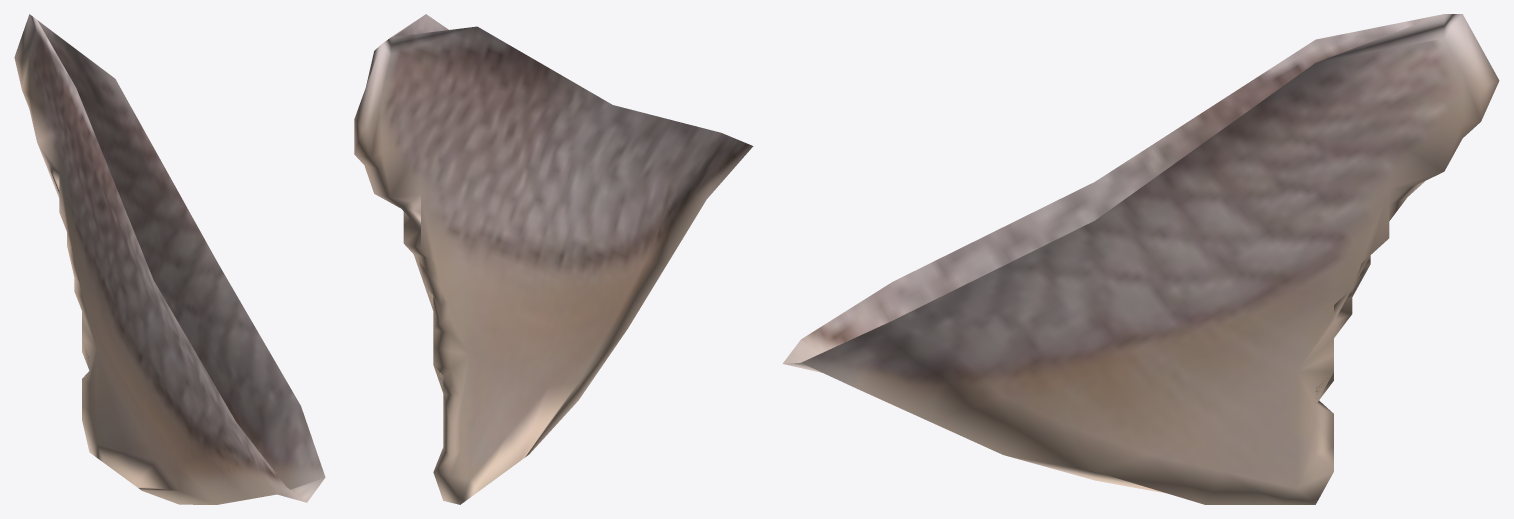
The model's file is AnalFins.glb.
3 renders of one model, left to right at view 1: azimuth 30°, elevation 25°; view 2: azimuth 150°, elevation 25°; view 3: azimuth 270°, elevation 25°, orthographic. The views are drawn at different scales.
Parts seen in each view (by area): view 1: world; view 2: world; view 3: world.
Boxes of the visible parts, left/top/right/bottom form: world: left=14, top=14, right=325, bottom=504; world: left=354, top=14, right=753, bottom=504; world: left=782, top=14, right=1499, bottom=504.
Size of the model in its own units: 0.00977 by 0.0566 by 0.0762.
Materials: 1 (1 with a texture image).
